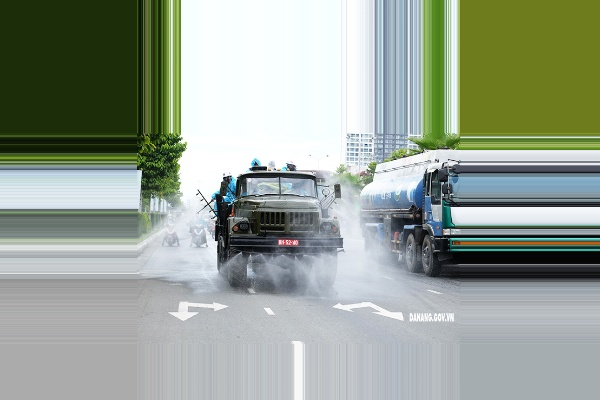plate: (276, 238, 299, 246)
